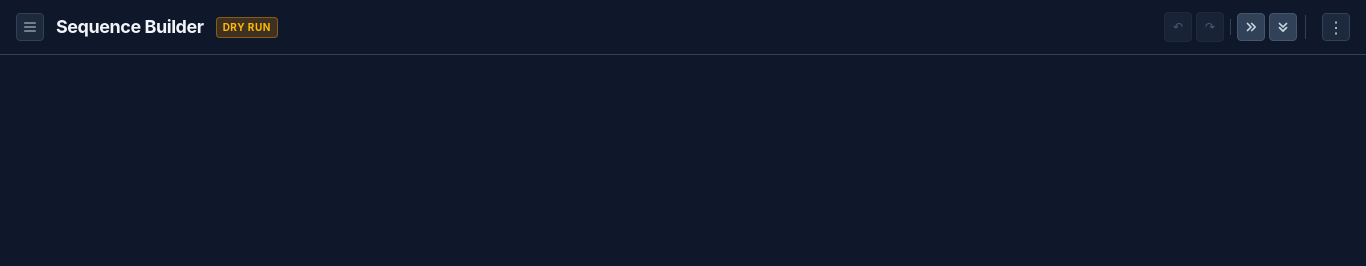
Test case: PageHeader › shows Simulate Failures toggle only when dry run is active
Click the button named "sequence actions".
click(1336, 27)  # box [1322,13,1350,41]
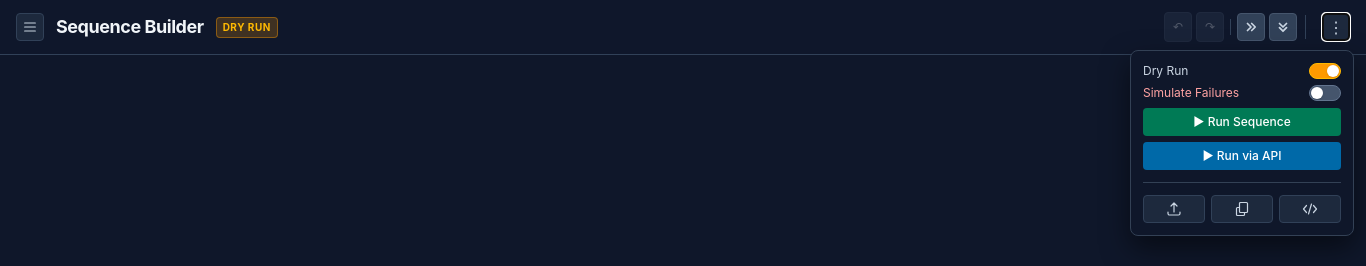
Expected: the button "Simulate Failures" is shown, [1143,85,1341,101]
